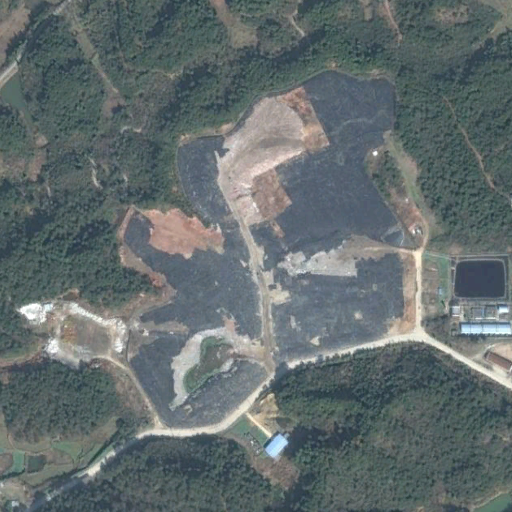lf: (115, 70, 415, 430)
